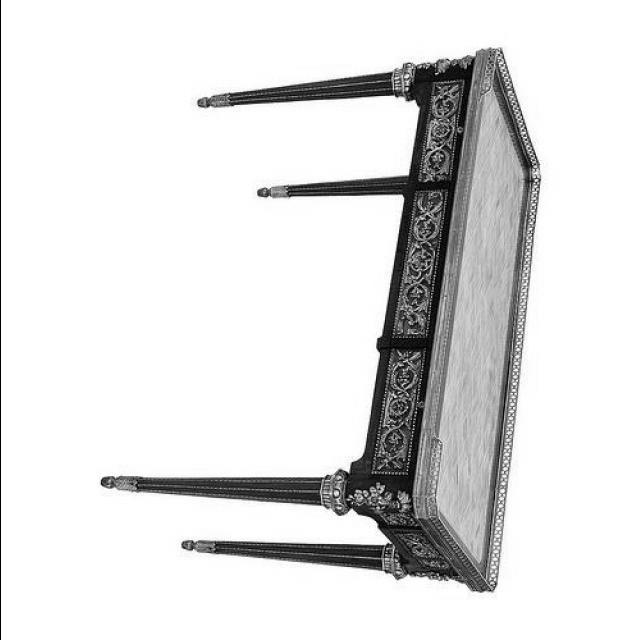table: (100, 43, 538, 599)
